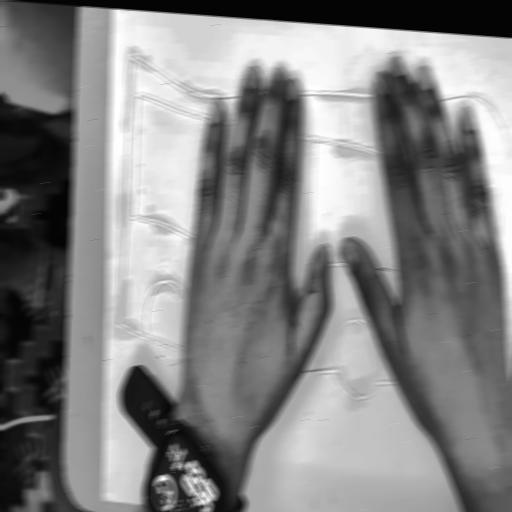bottom_left: (98, 491, 108, 505)
bus: (77, 27, 512, 423)
